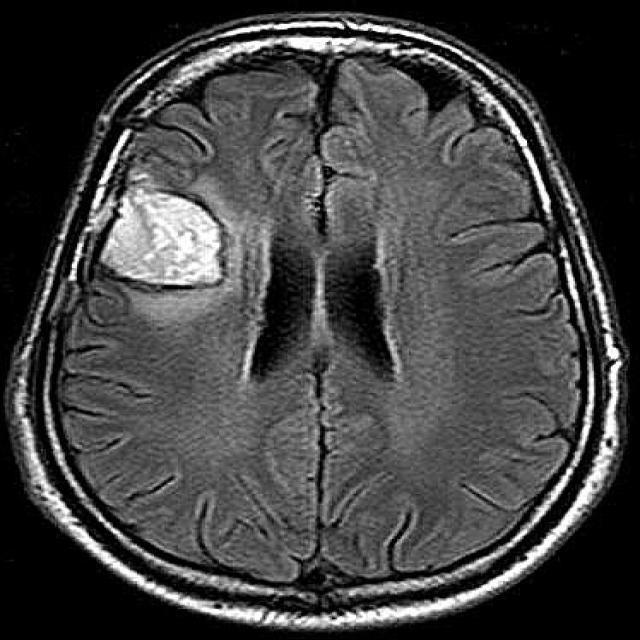Tumor-Cell: (86, 167, 242, 332)
